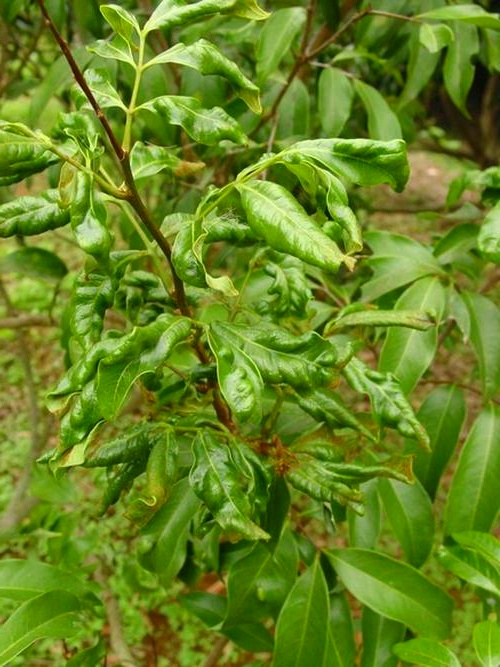Gall_Mite: (81, 256, 210, 369), (283, 308, 424, 411), (149, 440, 269, 527)
